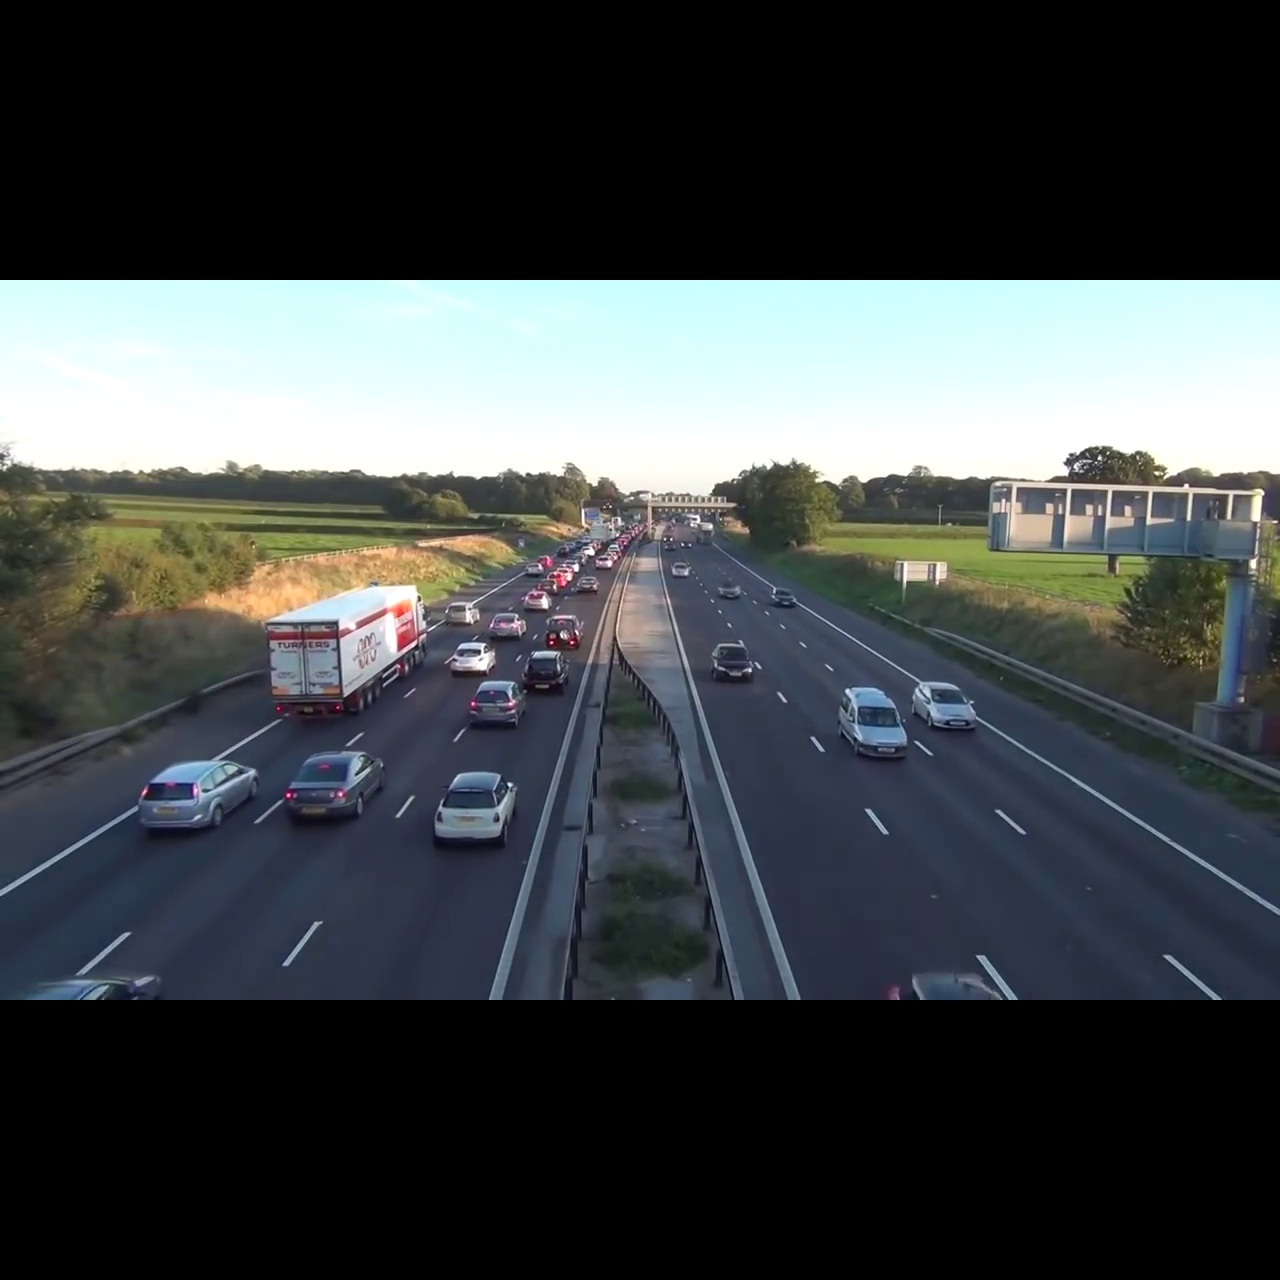vehicle: (264, 583, 433, 723), (138, 761, 263, 840), (282, 745, 392, 825), (431, 765, 523, 856), (835, 681, 914, 765), (908, 678, 981, 731), (468, 681, 527, 729), (522, 649, 571, 697), (708, 641, 756, 685), (449, 641, 498, 678), (543, 613, 585, 651), (488, 612, 527, 644), (443, 600, 483, 629), (524, 588, 554, 612)
